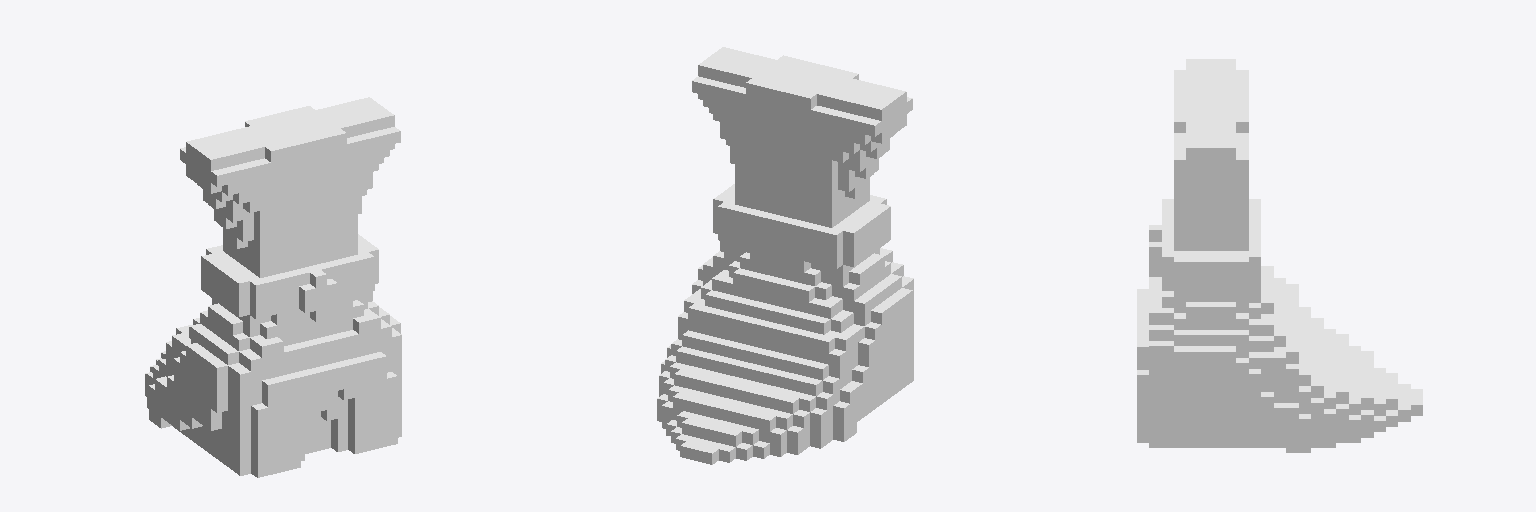
File: wizardtorso.obj
The picture shows the model from 3 angles: view 1: azimuth 30°, elevation 25°; view 2: azimuth 150°, elevation 25°; view 3: azimuth 270°, elevation 25°; orthographic projection.
Parts seen in each view (by area): view 1: SamAsWizard; view 2: SamAsWizard; view 3: SamAsWizard.
Boxes of the visible parts, x1=… form: SamAsWizard: x1=145, y1=97, x2=401, y2=477; SamAsWizard: x1=657, y1=47, x2=913, y2=464; SamAsWizard: x1=1137, y1=59, x2=1422, y2=452.
Bounding box in the file's own units: 17 × 27 × 23.